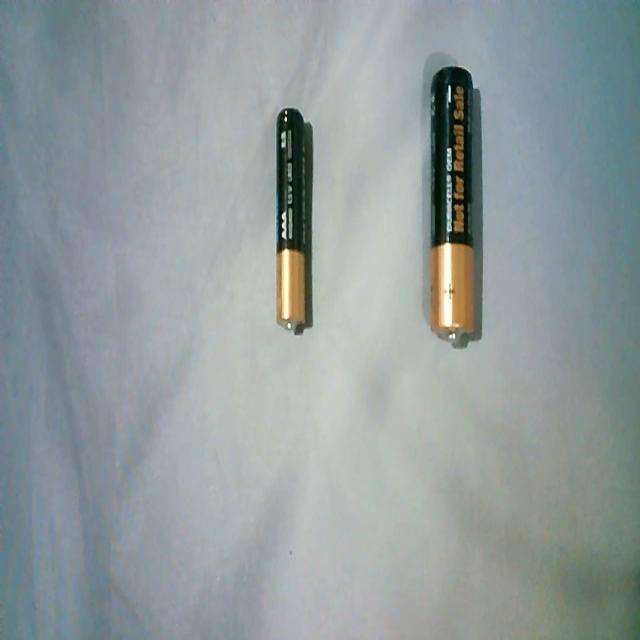AA: (423, 58, 484, 356)
AAA: (271, 100, 316, 336)
